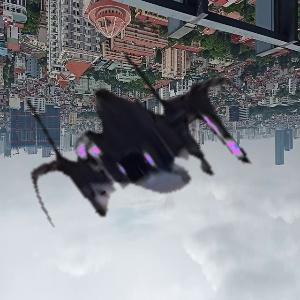drone: (14, 19, 269, 274)
